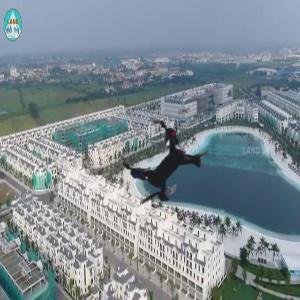drone: (87, 92, 241, 246)
